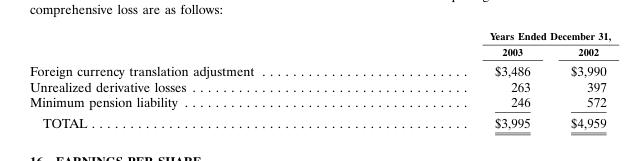table: (28, 29, 610, 130)
table column: (28, 29, 371, 130), (371, 29, 549, 130), (549, 29, 610, 130)
table column header: (28, 29, 610, 60)
table row: (28, 60, 610, 78), (28, 94, 610, 112), (28, 112, 610, 130), (28, 43, 610, 60), (28, 78, 610, 94), (28, 29, 610, 43)
table spanning cell: (371, 29, 610, 43)
